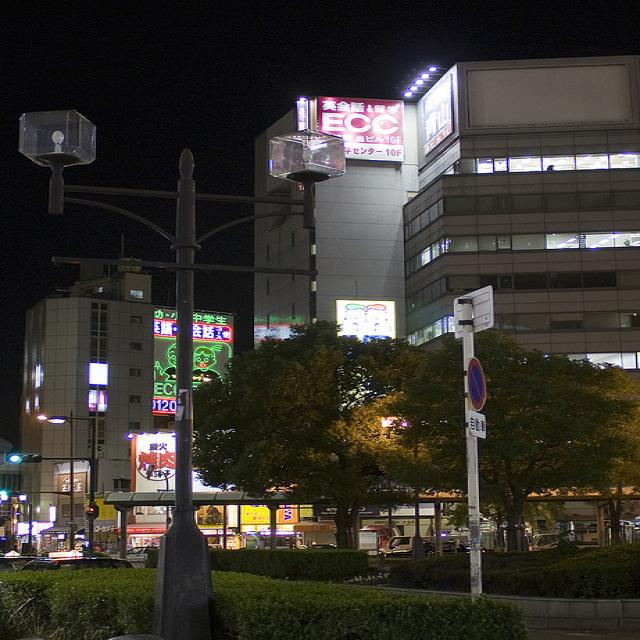Vehicle: (425, 541, 487, 556), (70, 556, 135, 570), (380, 536, 413, 555), (530, 532, 559, 552), (125, 546, 159, 562), (574, 528, 597, 544), (304, 546, 338, 550), (620, 521, 636, 527), (247, 533, 261, 538), (252, 546, 259, 550)
